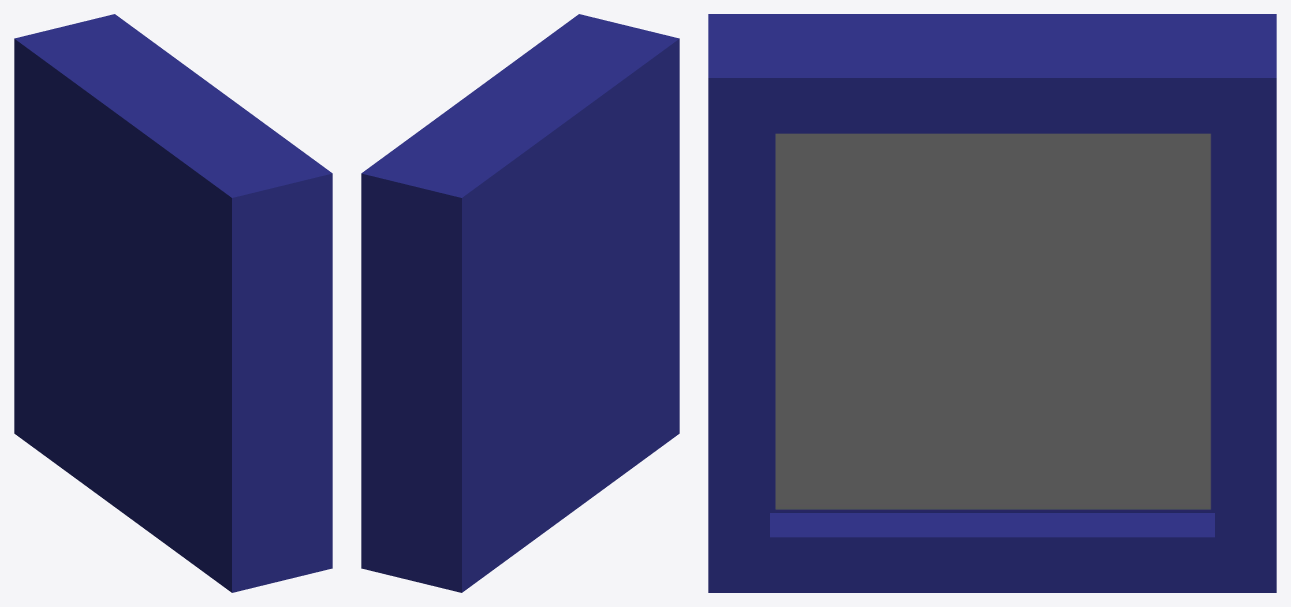
Rendered from PictureFrame1.fbx.
3 renders of one model, left to right at view 1: azimuth 30°, elevation 25°; view 2: azimuth 150°, elevation 25°; view 3: azimuth 270°, elevation 25°, orthographic. The views are drawn at different scales.
Parts seen in each view (by area): view 1: PictureFrame1; view 2: PictureFrame1; view 3: PictureFrame1.
Boxes of the visible parts, x1,y1,x2,y2 form: PictureFrame1: (14,14,332,592); PictureFrame1: (361,14,679,592); PictureFrame1: (708,14,1276,592).
Bounding box in the file's own units: 60 × 225 × 225.
Materials: 1 (1 with a texture image).
